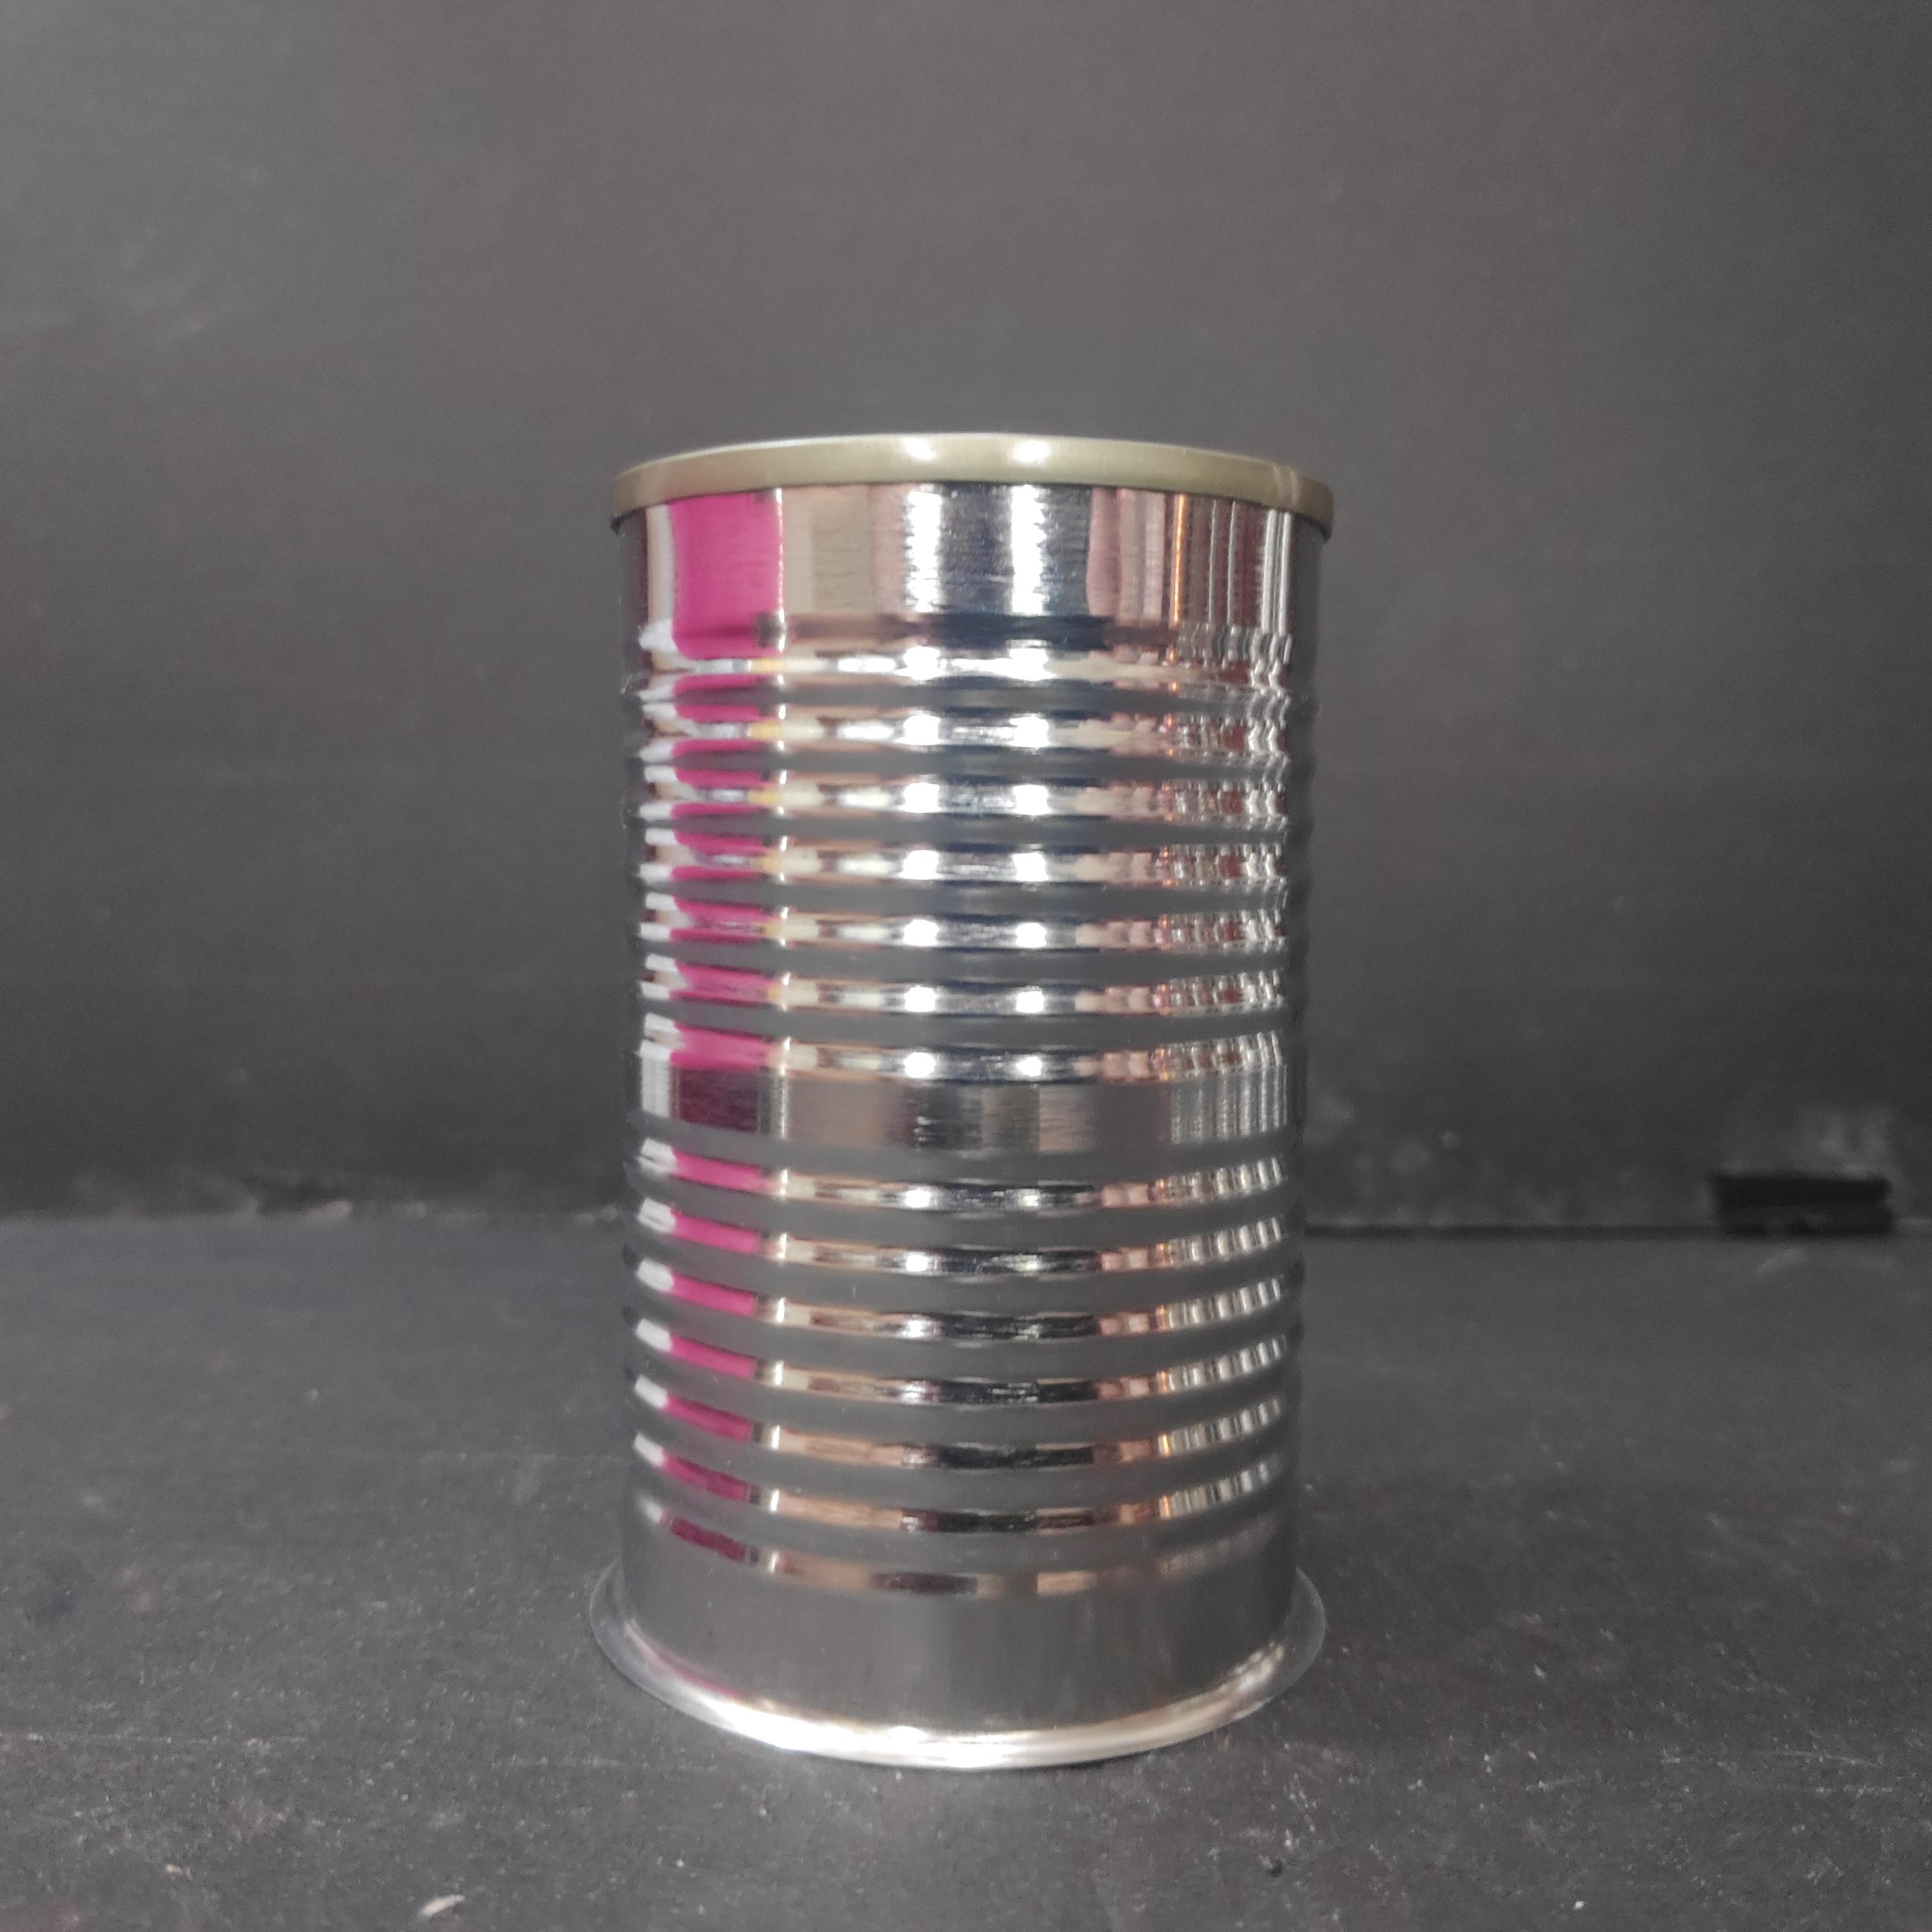No defect: (589, 419, 1353, 1786)
